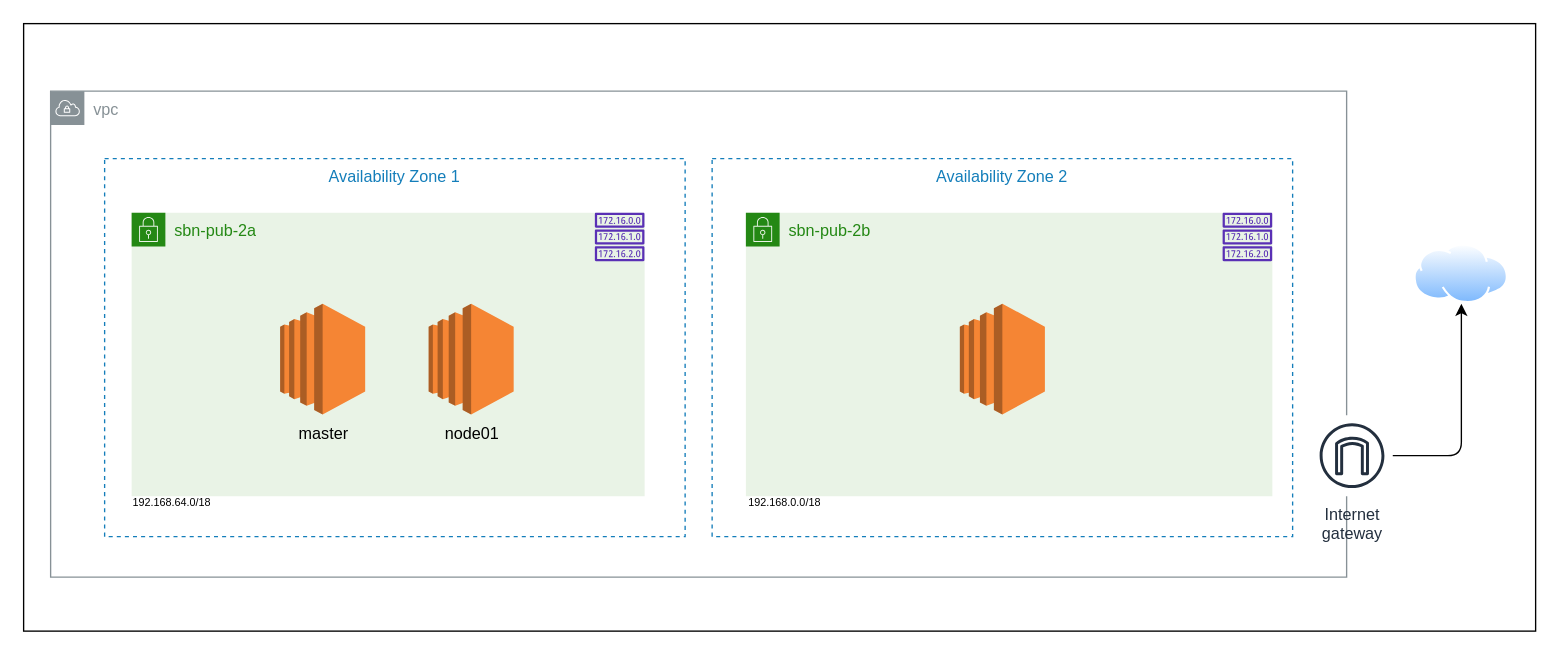
The diagram is 1559 pixels wide and 655 high, and some of its shapes have lost their labels. Here are the shapes that lost their labels. From the top down, the centre of each, then its label:
the point at 1460,273: Internet
the point at 1002,358: node02
